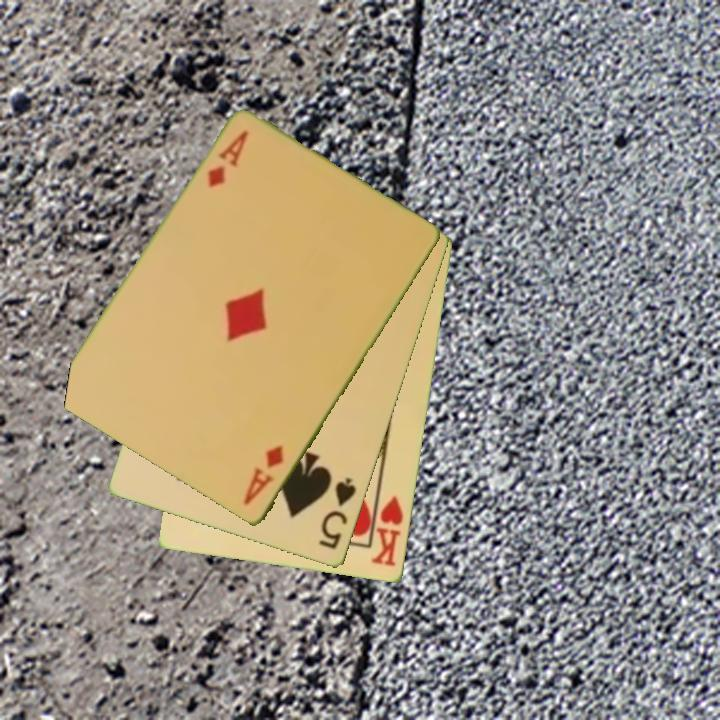5s: (316, 474, 360, 553)
Ad: (240, 441, 287, 509), (204, 127, 252, 192)
Kh: (368, 486, 407, 570)
